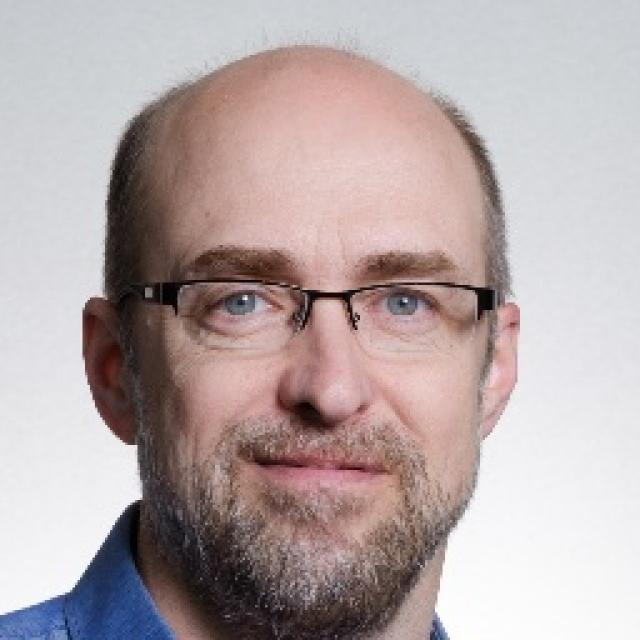earlobe: (104, 398, 141, 448), (476, 387, 505, 441)
eye: (205, 289, 288, 321), (367, 290, 438, 321)
nose: (276, 401, 366, 442)
wholeear: (81, 296, 140, 447), (476, 302, 520, 441)
